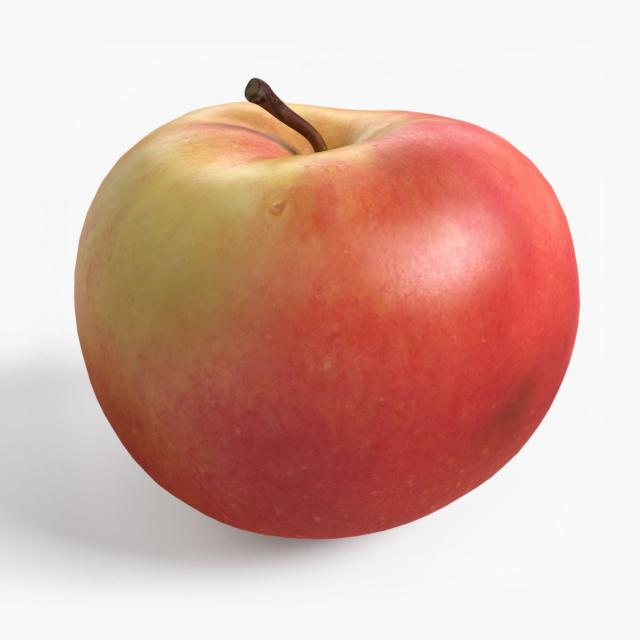Apple: (70, 76, 578, 541)
